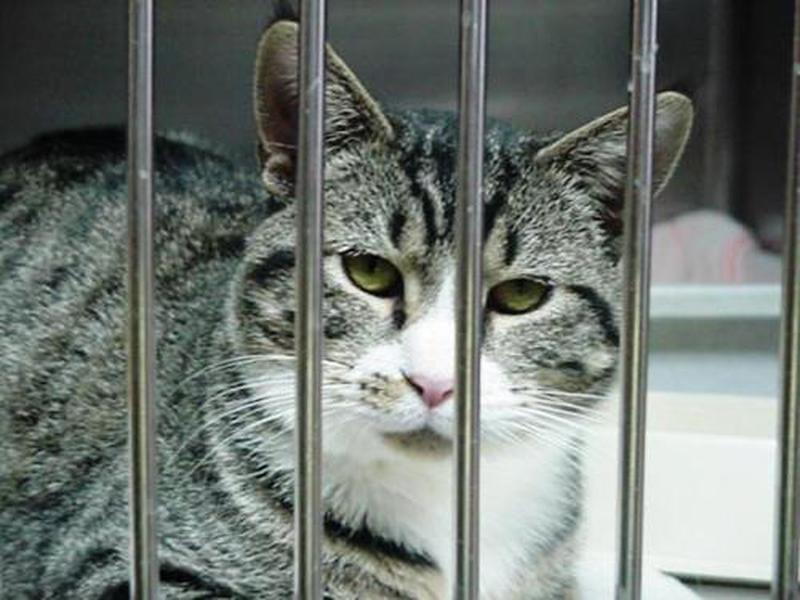cat: (180, 10, 702, 599)
